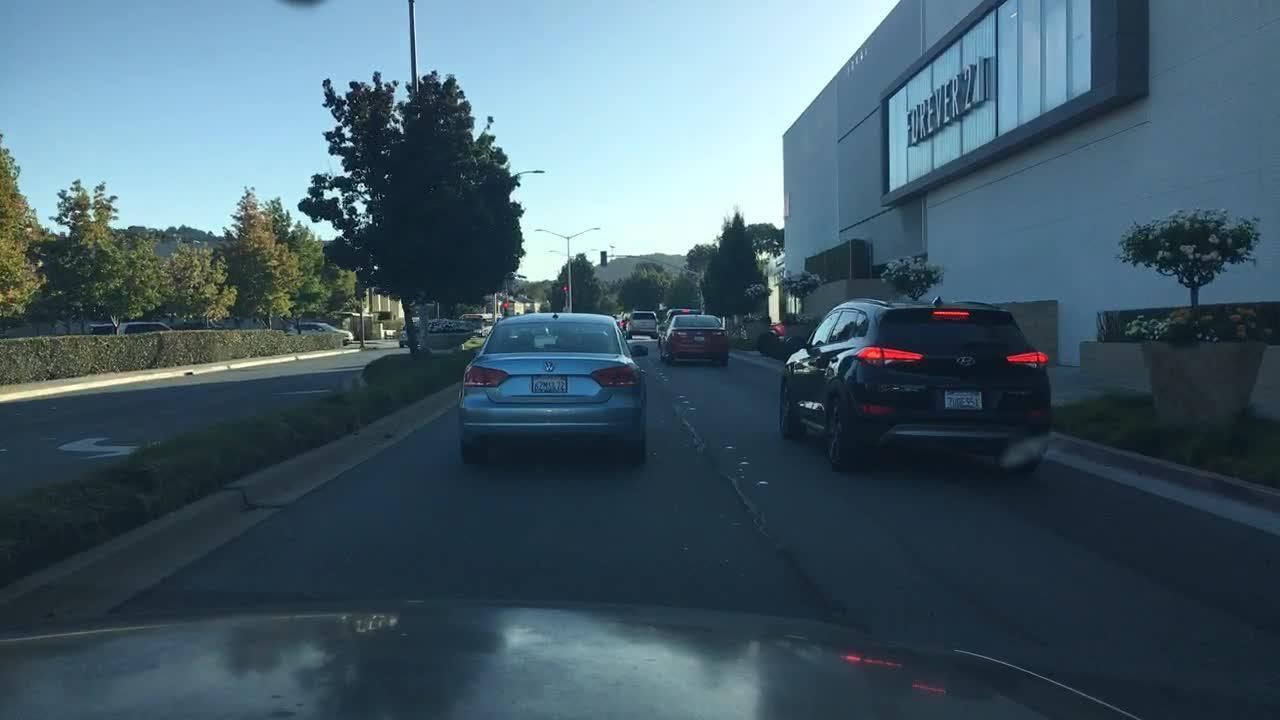Hyundai: (952, 356, 980, 369)
Volkswagen: (541, 355, 563, 376)
